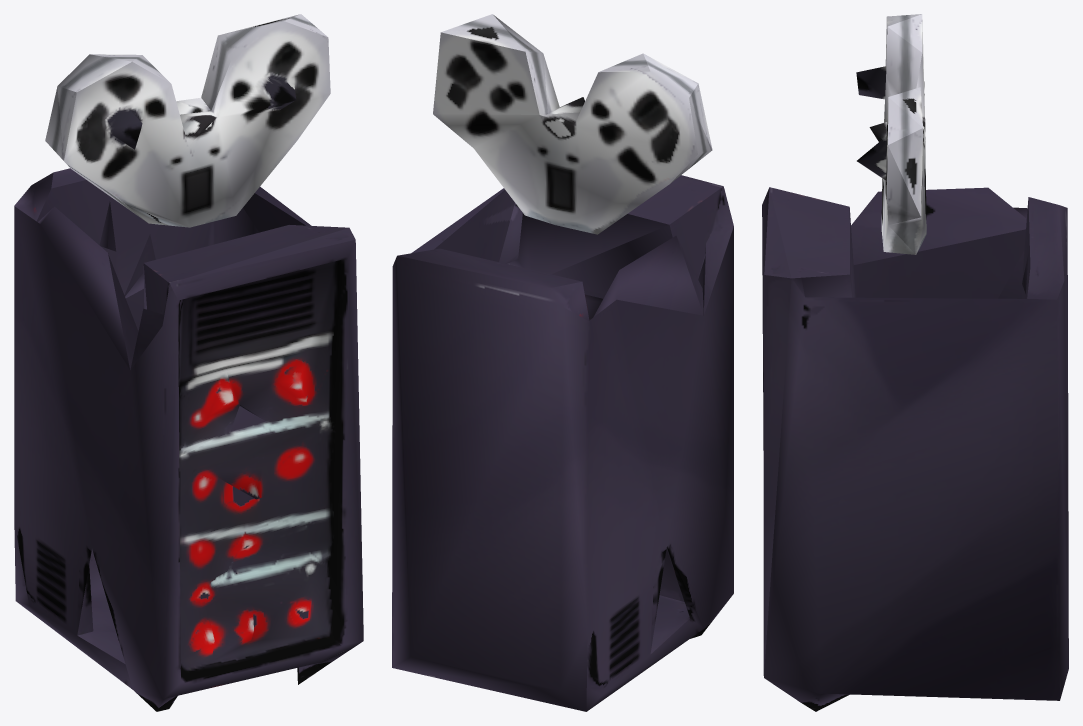
File: server-tower.glb
3 views of the same model, side by side, from view 1: azimuth 30°, elevation 25°; view 2: azimuth 150°, elevation 25°; view 3: azimuth 270°, elevation 25° (orthographic).
Parts seen in each view (by area): view 1: geometry_0.001; view 2: geometry_0.001; view 3: geometry_0.001.
Boxes of the visible parts, x1,y1,x2,y2 form: geometry_0.001: (14, 14, 363, 711); geometry_0.001: (392, 14, 733, 711); geometry_0.001: (762, 14, 1068, 711).
Size of the model in its own units: 0.4477 by 1 by 0.4455.
1 material, 1 textured.
